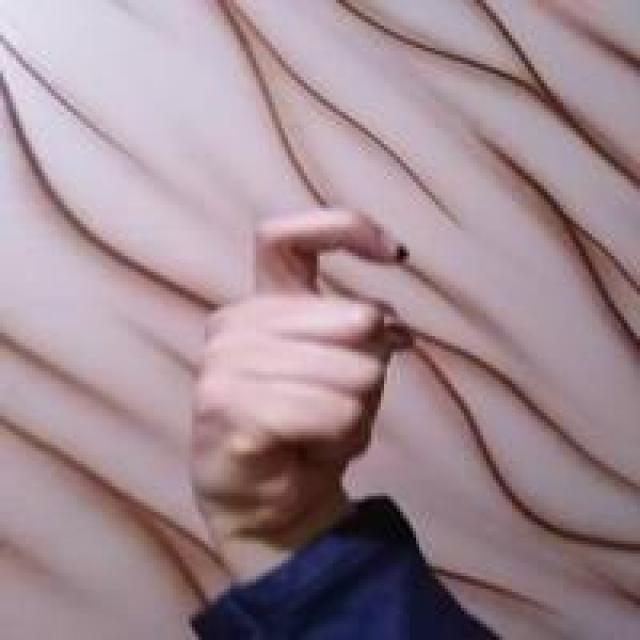X: (181, 200, 424, 552)
